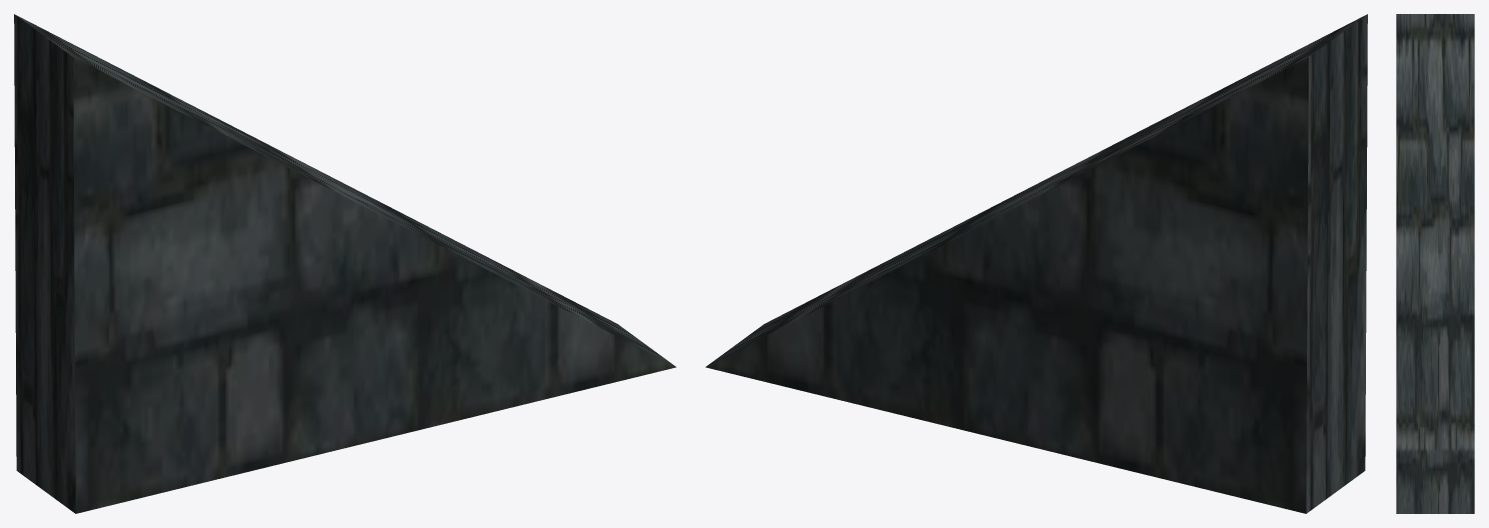
File: dark half wall 30.glb
3 renders of one model, left to right at view 1: azimuth 30°, elevation 25°; view 2: azimuth 150°, elevation 25°; view 3: azimuth 270°, elevation 25°, orthographic. The views are drawn at different scales.
Visible parts, largest first — view 1: Plane.001; view 2: Plane.001; view 3: Plane.001.
Boxes of the visible parts, x1=… form: Plane.001: x1=14, y1=14, x2=676, y2=513; Plane.001: x1=705, y1=14, x2=1367, y2=513; Plane.001: x1=1396, y1=14, x2=1474, y2=513.
Bounding box in the file's own units: 1.94 × 1.41 × 0.3295.
Materials: 1 (1 with a texture image).
